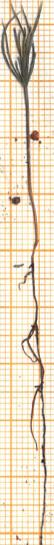flower: (0, 0, 54, 91)
root: (17, 265, 49, 545)
stem: (22, 86, 45, 262)
